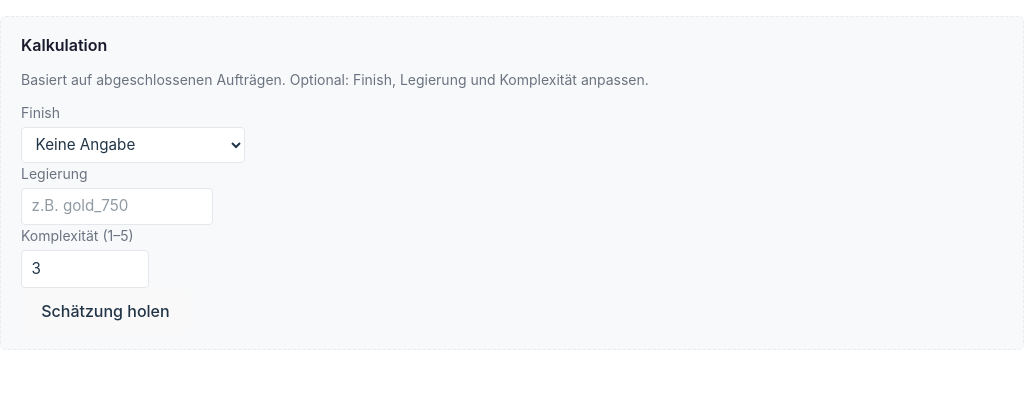
Test case: EstimatorPanel › renders the EUR + hours result on success
Click the button with test id "estimator-fetch-button" at (105, 310), box [21,288,190,333]
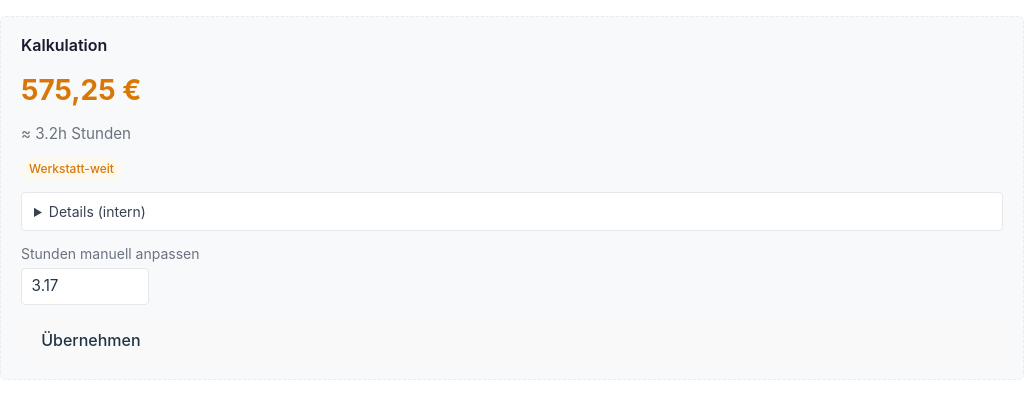
expect the text with test id "estimator-cost" shows "575,25": met, box [21,73,141,107]
expect the text with test id "estimator-hours" shows "3.2h": met, box [35,124,67,143]
